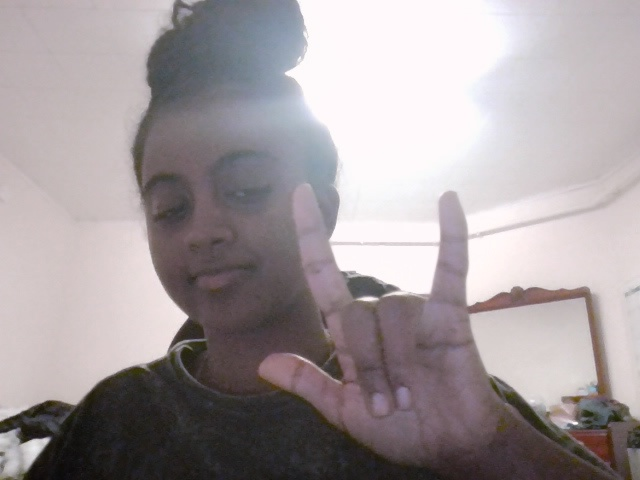ILoveYou: (254, 177, 517, 457)
